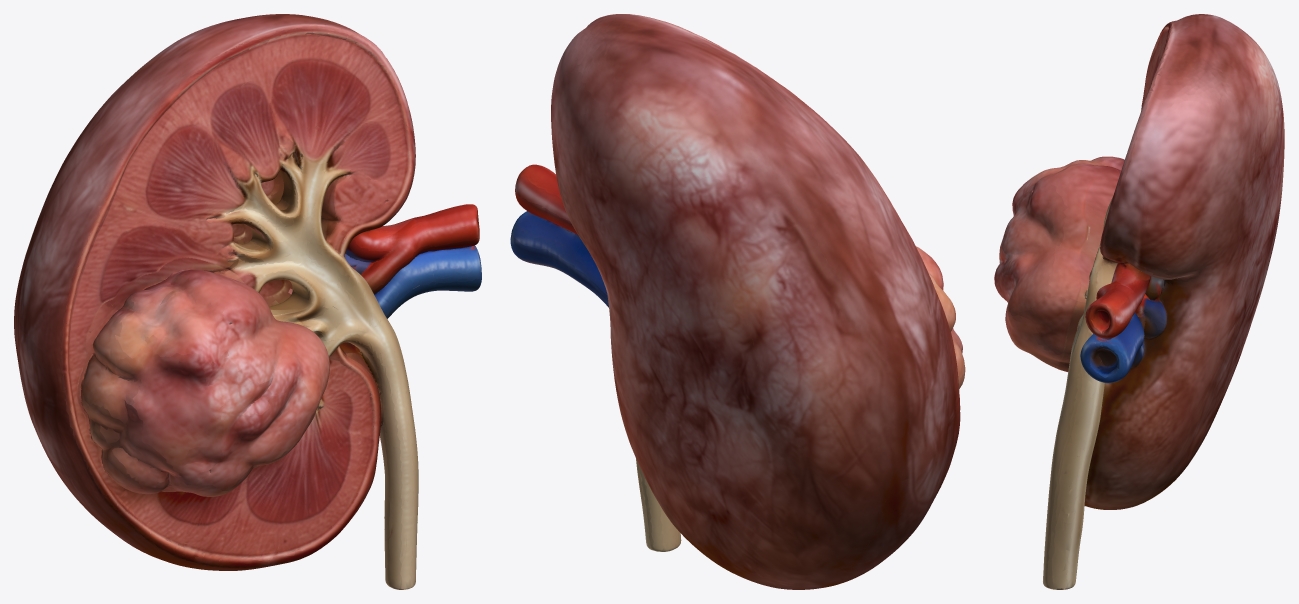
File: cutaway.glb
3 views of the same model, side by side, from view 1: azimuth 30°, elevation 25°; view 2: azimuth 150°, elevation 25°; view 3: azimuth 270°, elevation 25° (orthographic). The views are drawn at different scales.
Visible parts, largest first — view 1: geometry_0; view 2: geometry_0; view 3: geometry_0.
Boxes of the visible parts, x1=… form: geometry_0: x1=14, y1=14, x2=481, y2=589; geometry_0: x1=510, y1=14, x2=965, y2=589; geometry_0: x1=994, y1=14, x2=1284, y2=589.
Size of the model in its own units: 0.8277 by 1 by 0.5125.
1 material, 1 textured.
